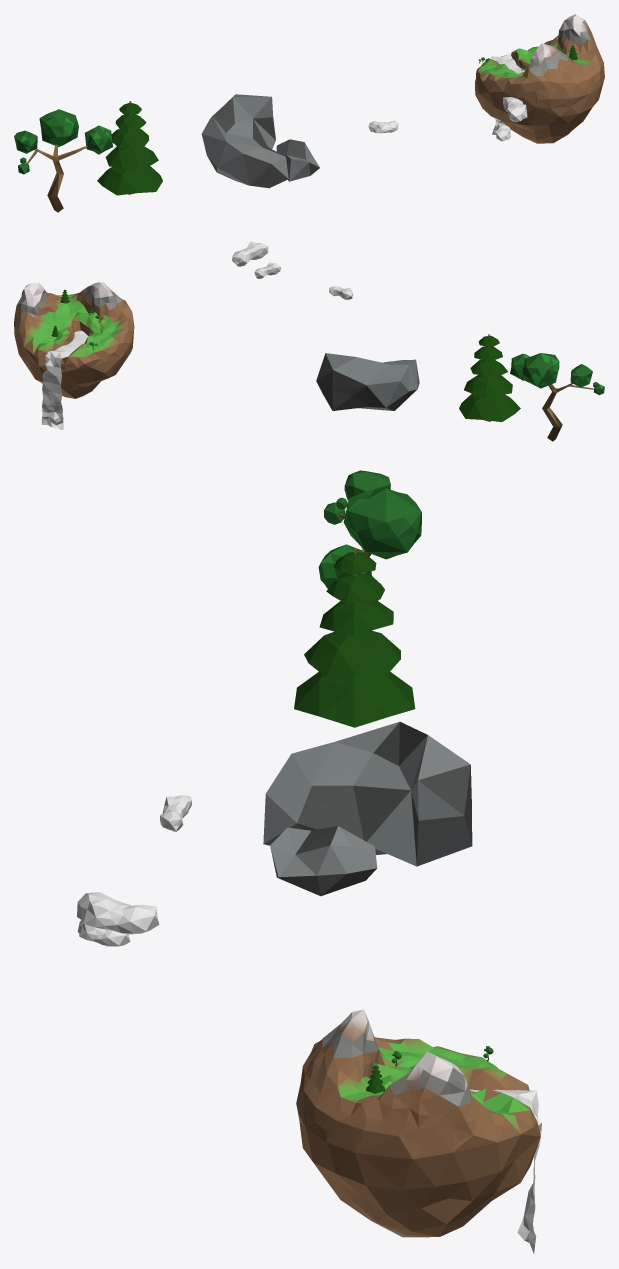
Rendered from Stone.fbx.
3 renders of one model, top to bottom at view 1: azimuth 30°, elevation 25°; view 2: azimuth 150°, elevation 25°; view 3: azimuth 270°, elevation 25°, orthographic. The views are drawn at different scales.
Visible parts, largest first — view 1: World, StoneBig, PaneTree, Tree, StoneSmall, WolkeGroß, Water, WolkeGroß.001; view 2: World, StoneBig, PaneTree, Tree, Water, WolkeGroß; view 3: World, StoneBig, PaneTree, Tree, StoneSmall, WolkeGroß, Water.
Part boxes in pixels (box(x1,y1,x2,y2)): World: box(475, 14, 604, 143); StoneBig: box(201, 94, 288, 188); PaneTree: box(97, 101, 162, 195); Tree: box(14, 109, 112, 212); StoneSmall: box(276, 139, 319, 181); WolkeGroß: box(503, 97, 527, 121); Water: box(491, 54, 524, 134); WolkeGroß.001: box(368, 120, 398, 133); World: box(14, 282, 134, 398); StoneBig: box(316, 353, 419, 410); PaneTree: box(459, 334, 520, 421); Tree: box(510, 353, 604, 441); Water: box(41, 330, 88, 429); WolkeGroß: box(232, 241, 268, 266); World: box(296, 1009, 540, 1237); StoneBig: box(263, 721, 472, 866); PaneTree: box(294, 548, 415, 727); Tree: box(318, 470, 421, 600); StoneSmall: box(270, 826, 377, 896); WolkeGroß: box(77, 892, 159, 934); Water: box(469, 1089, 541, 1253).
Size of the model in its own units: 10420 by 2822 by 3734.
